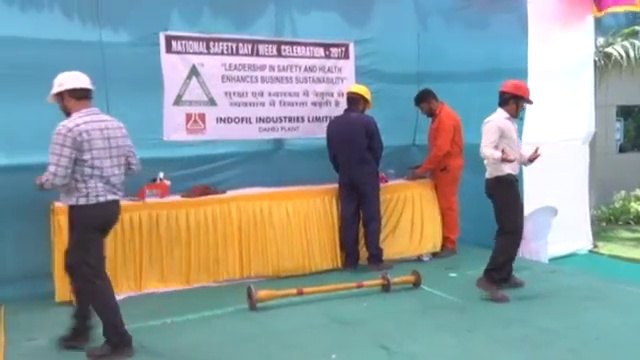helmet: (44, 69, 98, 102), (496, 78, 537, 106), (346, 82, 373, 108)
helmet_off: (412, 88, 441, 118)
helmet_on: (44, 68, 99, 119), (495, 76, 537, 123), (343, 80, 373, 115)
person: (34, 69, 139, 359), (325, 79, 394, 269), (479, 78, 538, 300), (410, 88, 465, 258)
